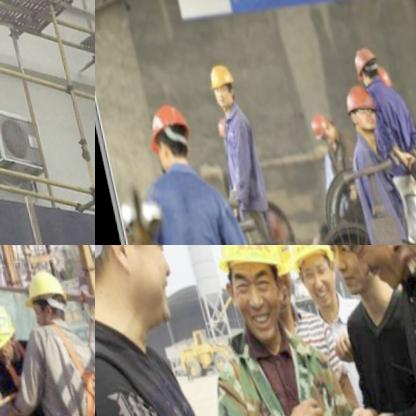helmet: (204, 245, 290, 342), (95, 245, 192, 329), (293, 245, 413, 288), (133, 96, 196, 174), (343, 245, 416, 312), (13, 263, 71, 337), (283, 245, 340, 311), (311, 245, 376, 300), (250, 245, 300, 312), (333, 82, 376, 144), (198, 58, 237, 114), (344, 47, 381, 90), (301, 111, 331, 155), (0, 298, 17, 364)
